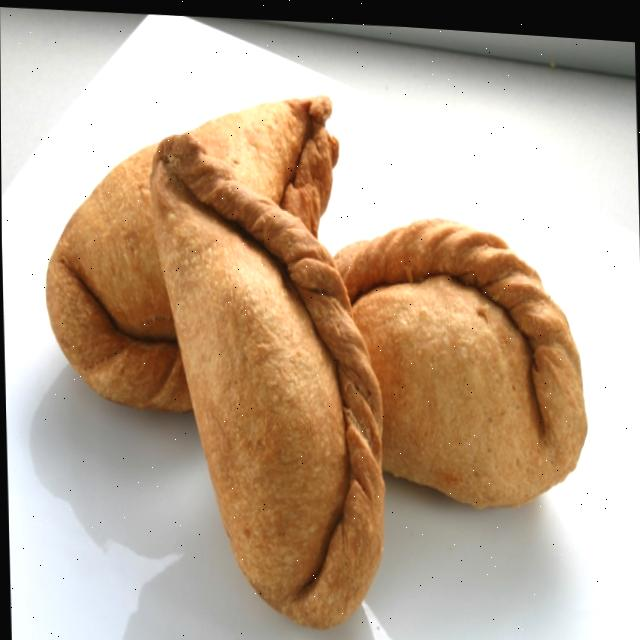炸货点心: (15, 54, 610, 640)
